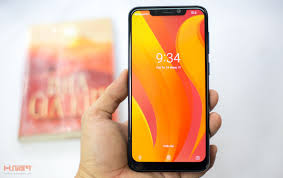vsmart: (126, 1, 210, 175)
